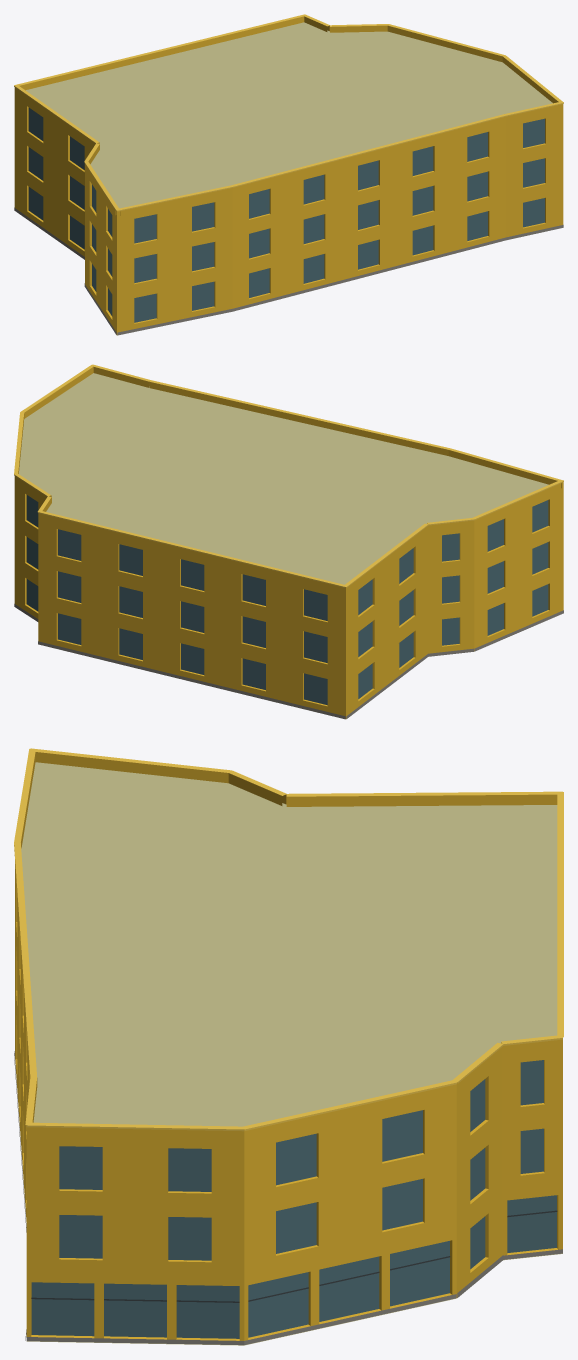
3 renders of one model, top to bottom at view 1: azimuth 30°, elevation 25°; view 2: azimuth 150°, elevation 25°; view 3: azimuth 270°, elevation 25°, orthographic. The views are drawn at different scales.
Visible parts, largest first — view 1: kheePlaza__roof, kheePlaza__wall, kheePlaza__glass, kheePlaza__parapet, kheePlaza__trim, kheePlaza__base; view 2: kheePlaza__roof, kheePlaza__wall, kheePlaza__glass, kheePlaza__parapet, kheePlaza__trim, kheePlaza__base; view 3: kheePlaza__roof, kheePlaza__wall, kheePlaza__glass, kheePlaza__parapet, kheePlaza__trim, kheePlaza__base, kheePlaza__frame.
Boxes of the visible parts, x1,y1,x2,y2 form: kheePlaza__roof: (26,22,552,208); kheePlaza__wall: (14,92,563,334); kheePlaza__glass: (28,107,544,322); kheePlaza__parapet: (14,16,563,216); kheePlaza__trim: (14,14,563,211); kheePlaza__base: (14,207,563,335); kheePlaza__roof: (19,373,548,584); kheePlaza__wall: (14,481,563,718); kheePlaza__glass: (26,495,548,705); kheePlaza__parapet: (14,366,563,592); kheePlaza__trim: (14,364,563,587); kheePlaza__base: (14,604,563,719); kheePlaza__roof: (21,762,562,1345); kheePlaza__wall: (15,861,562,1340); kheePlaza__glass: (31,1060,556,1338); kheePlaza__parapet: (21,752,562,1139); kheePlaza__trim: (14,748,563,1131); kheePlaza__base: (14,1051,562,1345); kheePlaza__frame: (31,1210,557,1302).
Size of the model in its own units: 47.62 by 12.62 by 29.04.
